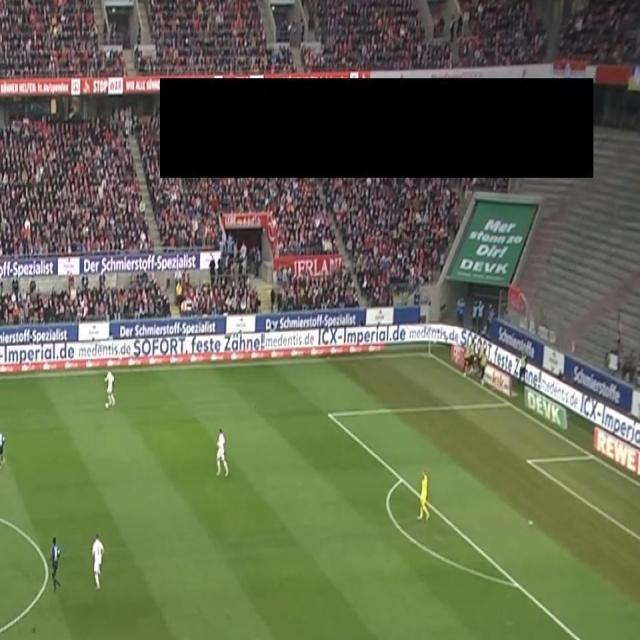ball: (104, 402, 109, 411)
